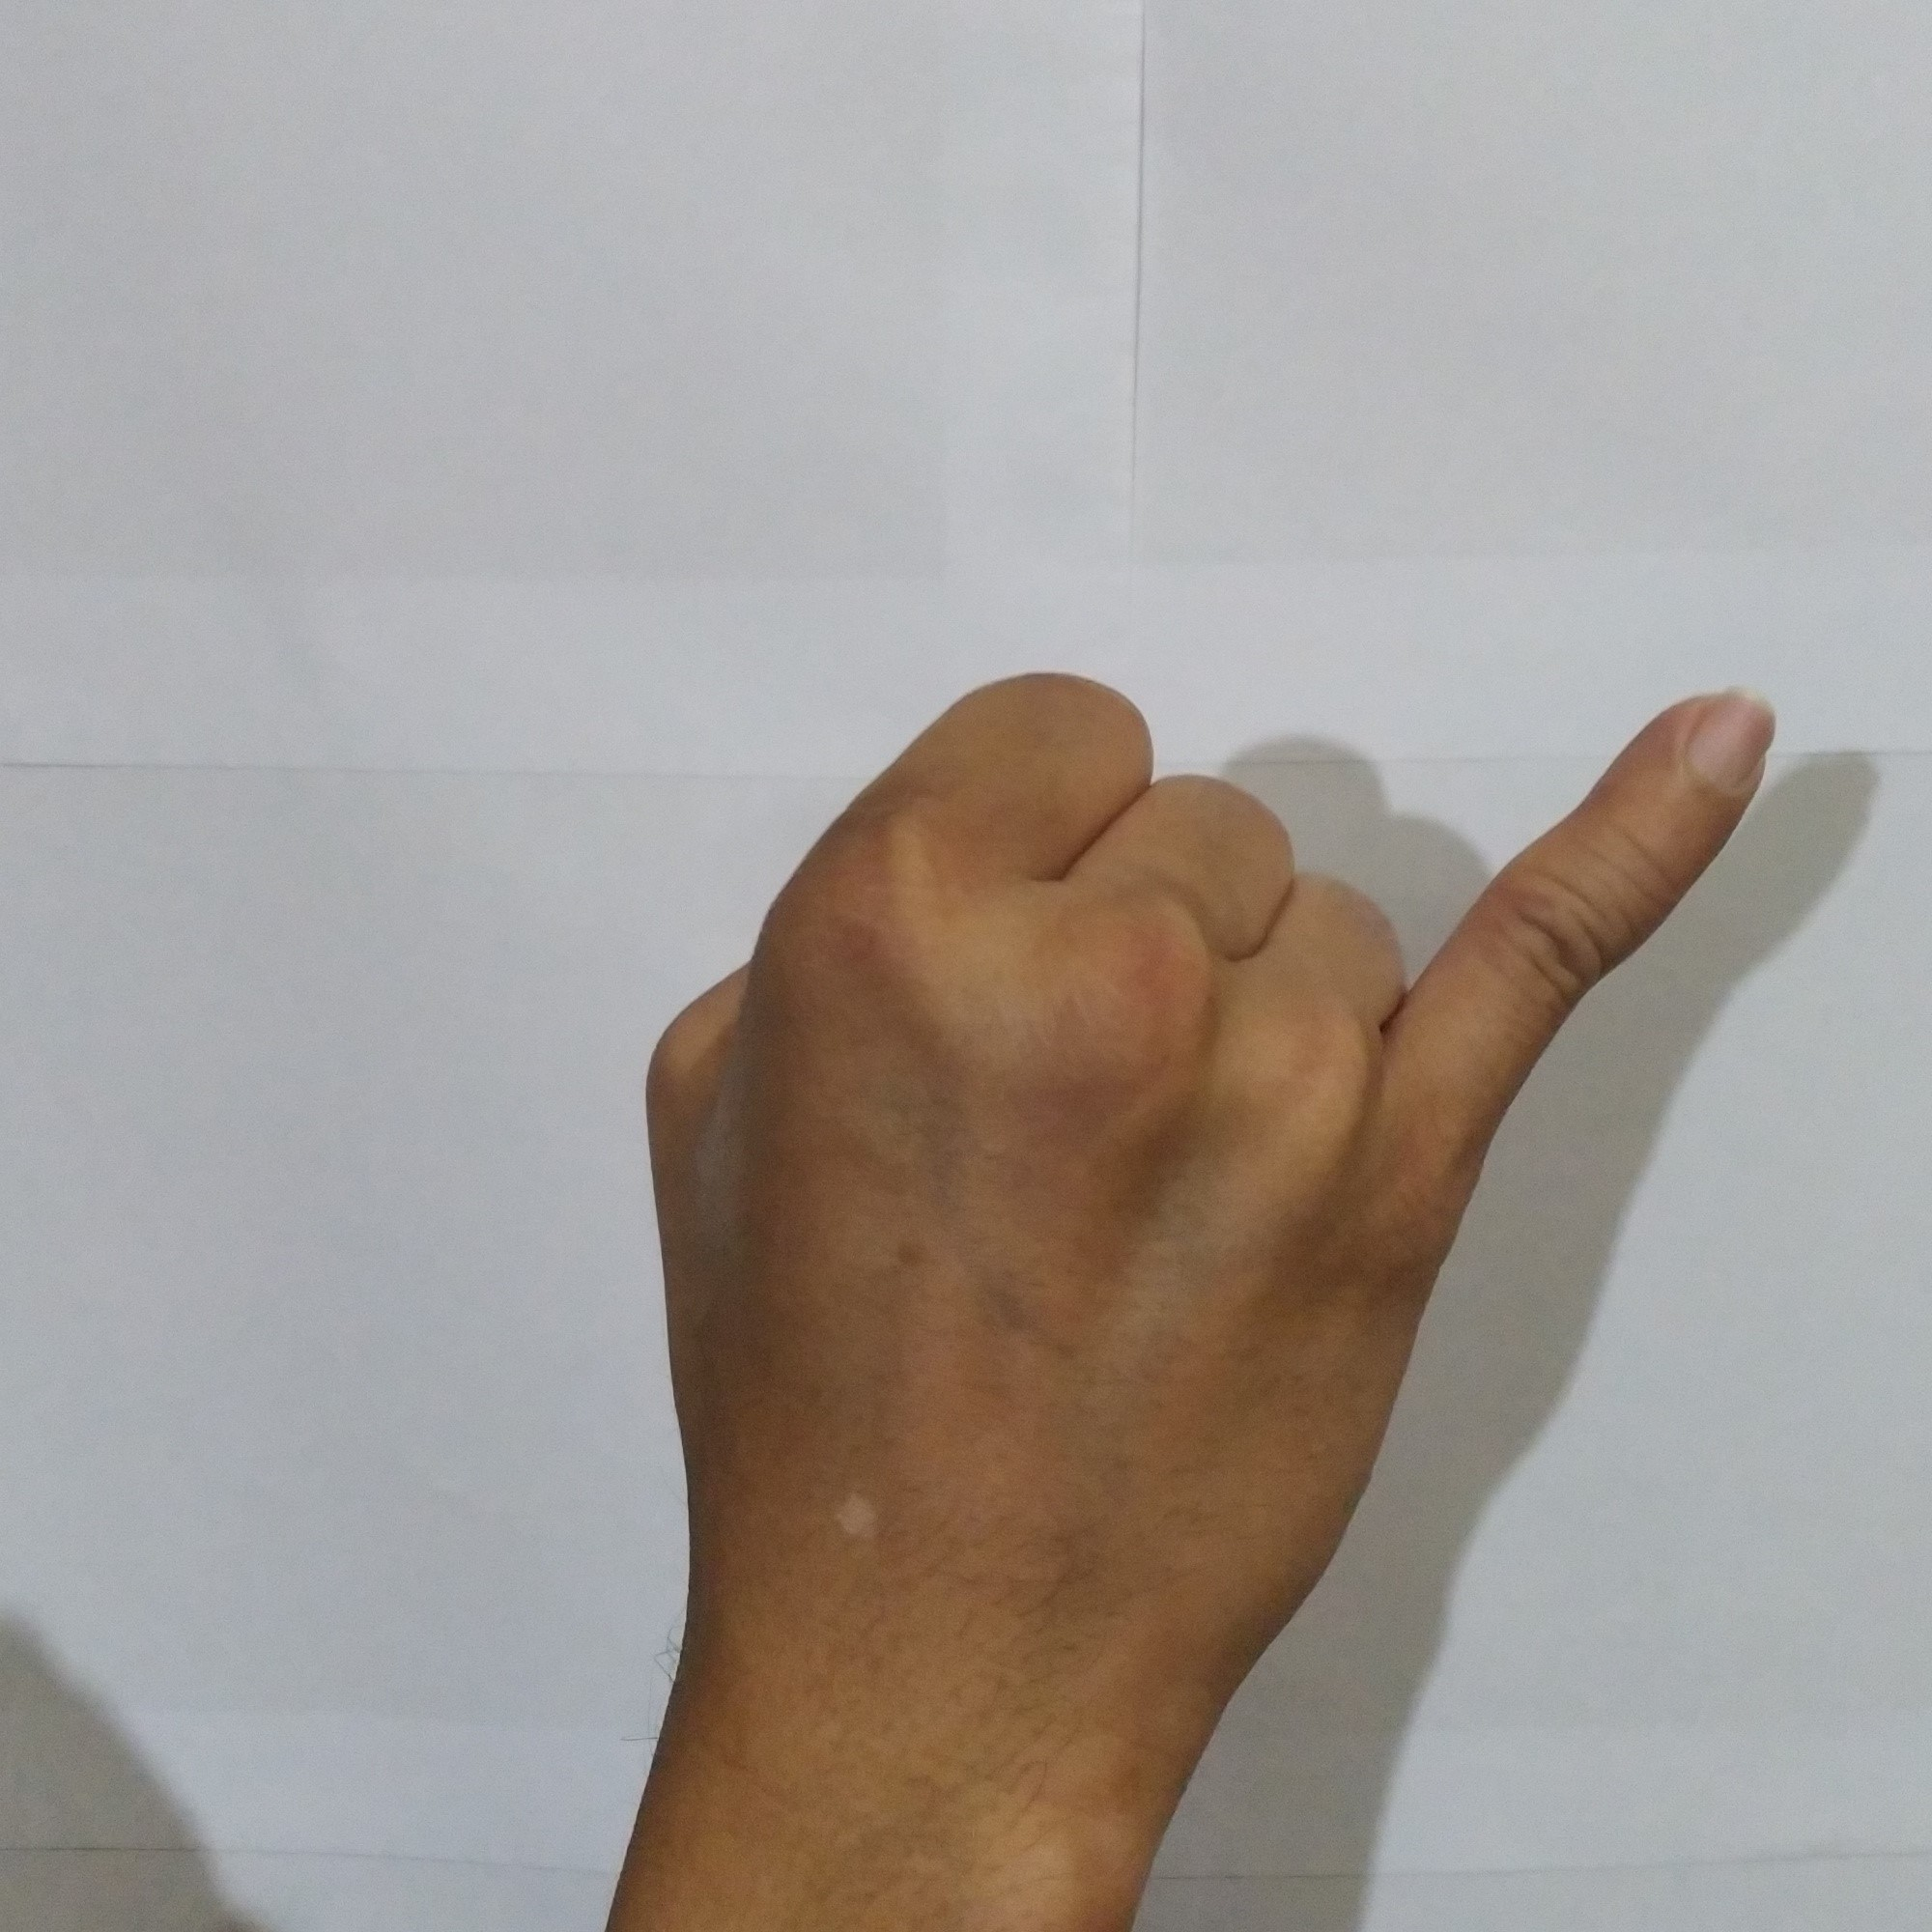J: (612, 648, 1798, 1647)
